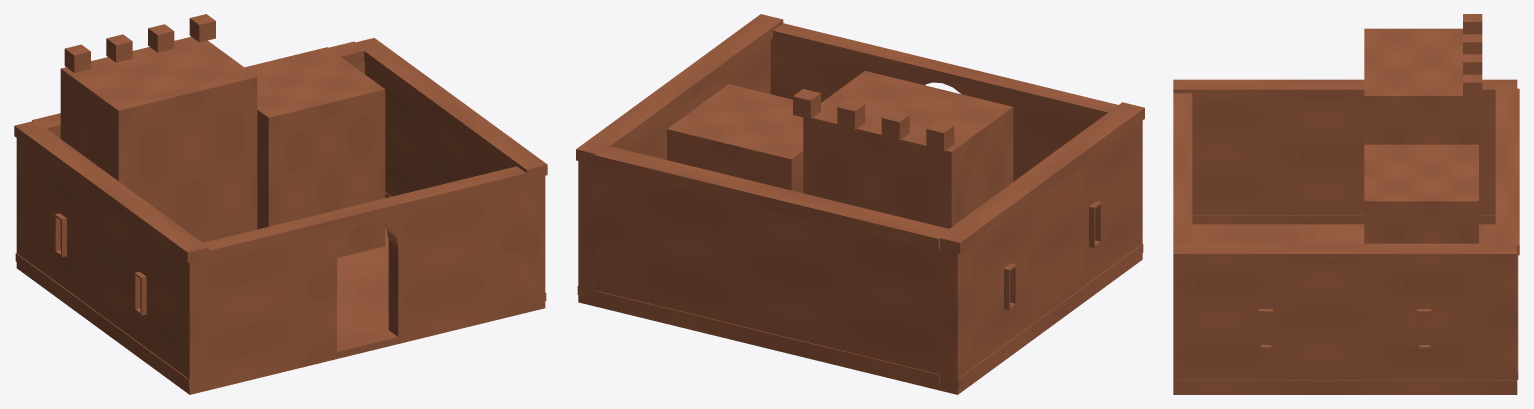
Rendered from tripoli.glb.
3 renders of one model, left to right at view 1: azimuth 30°, elevation 25°; view 2: azimuth 150°, elevation 25°; view 3: azimuth 270°, elevation 25°, orthographic. The views are drawn at different scales.
Visible parts, largest first — view 1: tripoli; view 2: tripoli; view 3: tripoli.
Boxes of the visible parts, x1,y1,x2,y2 form: tripoli: [14, 14, 547, 394]; tripoli: [576, 14, 1144, 394]; tripoli: [1173, 14, 1519, 394].
Bounding box in the file's own units: 6.58 × 3.87 × 5.44.
Materials: 1 (1 with a texture image).
